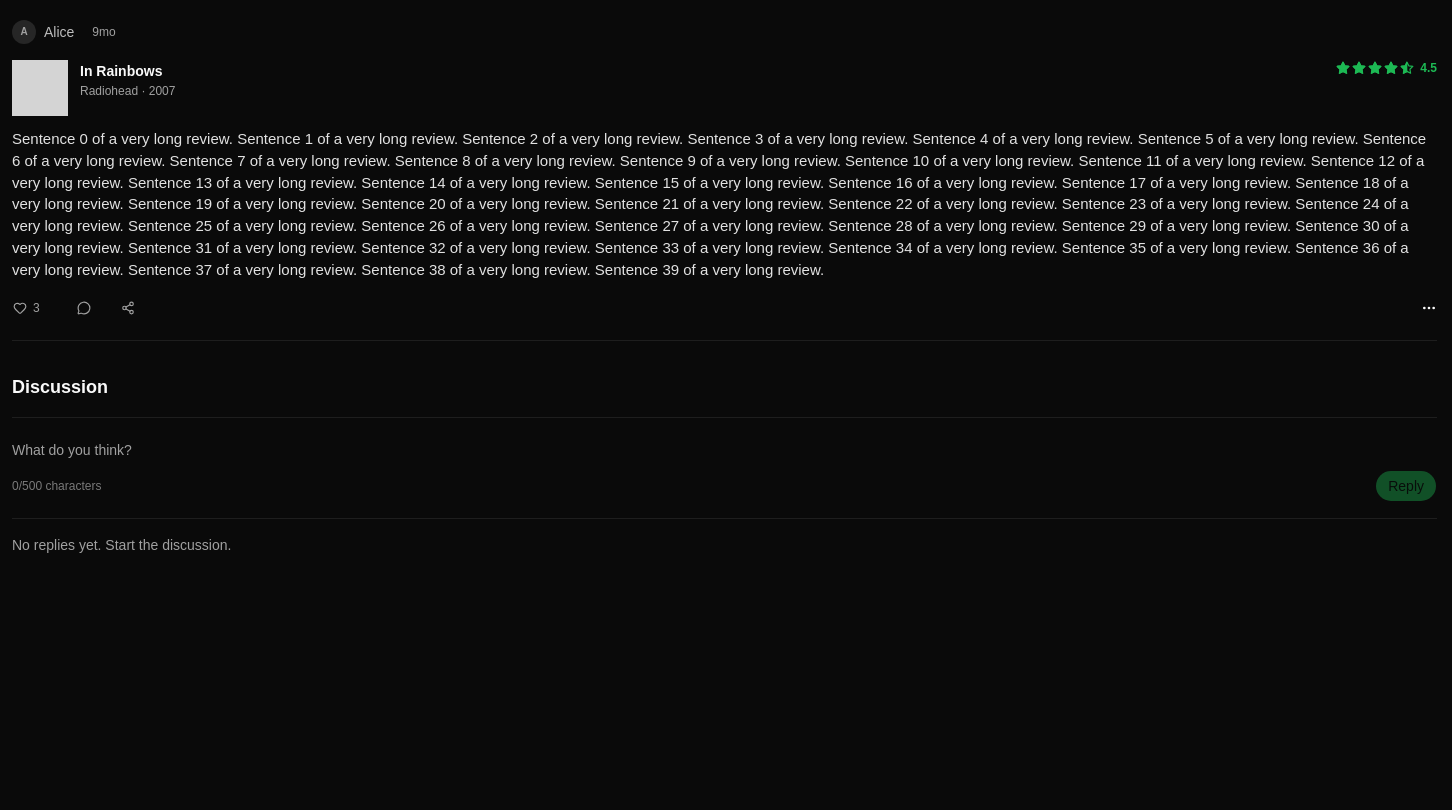
Test case: ReviewConversationContent › retains and marks the draft invalid when posting fails
This screenshot has width=1452, height=810.
Type "Keep this draft" into the text box named "Add a reply" at (724, 450), box [12, 434, 1437, 466]
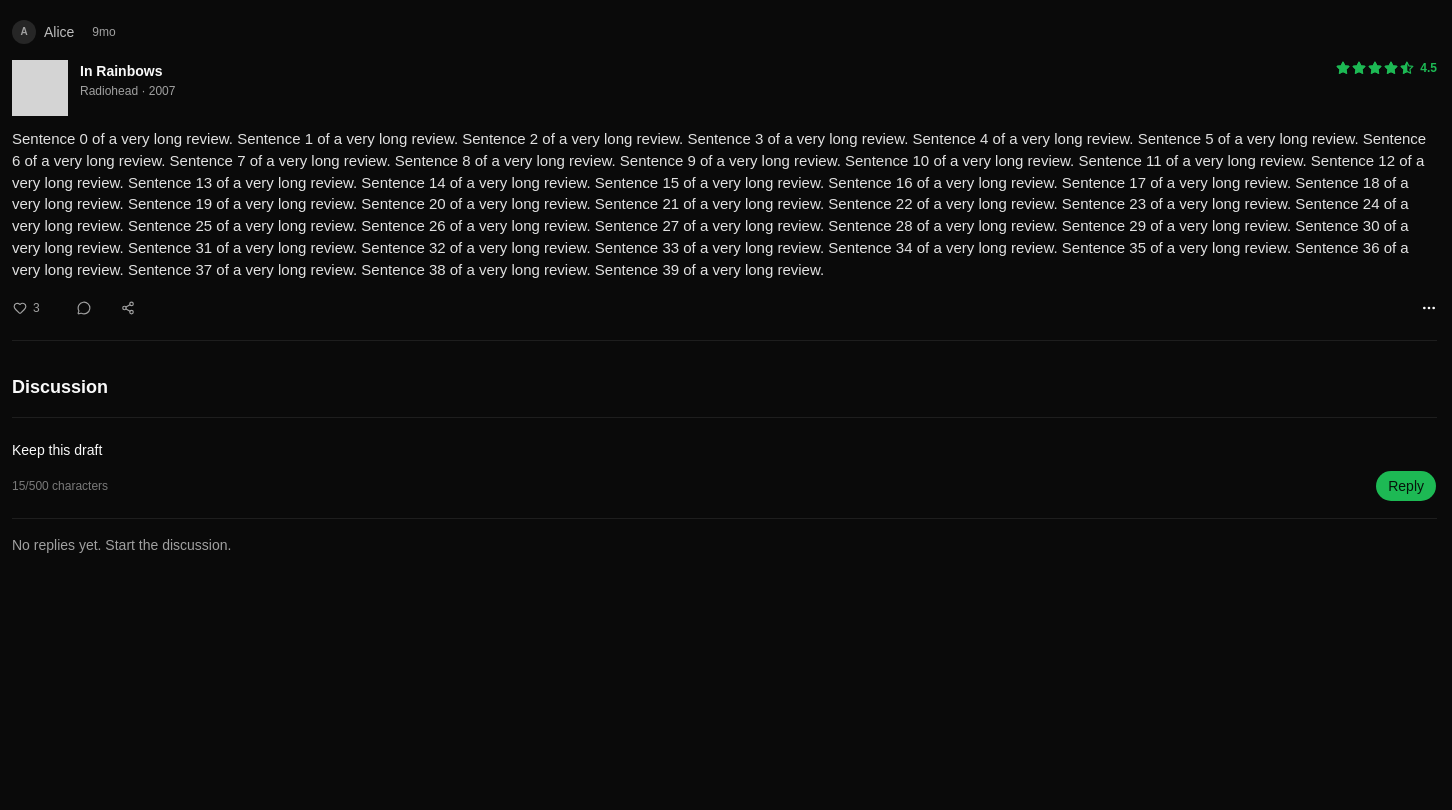
Click the button "Reply" at (1406, 486), box [1375, 470, 1437, 502]
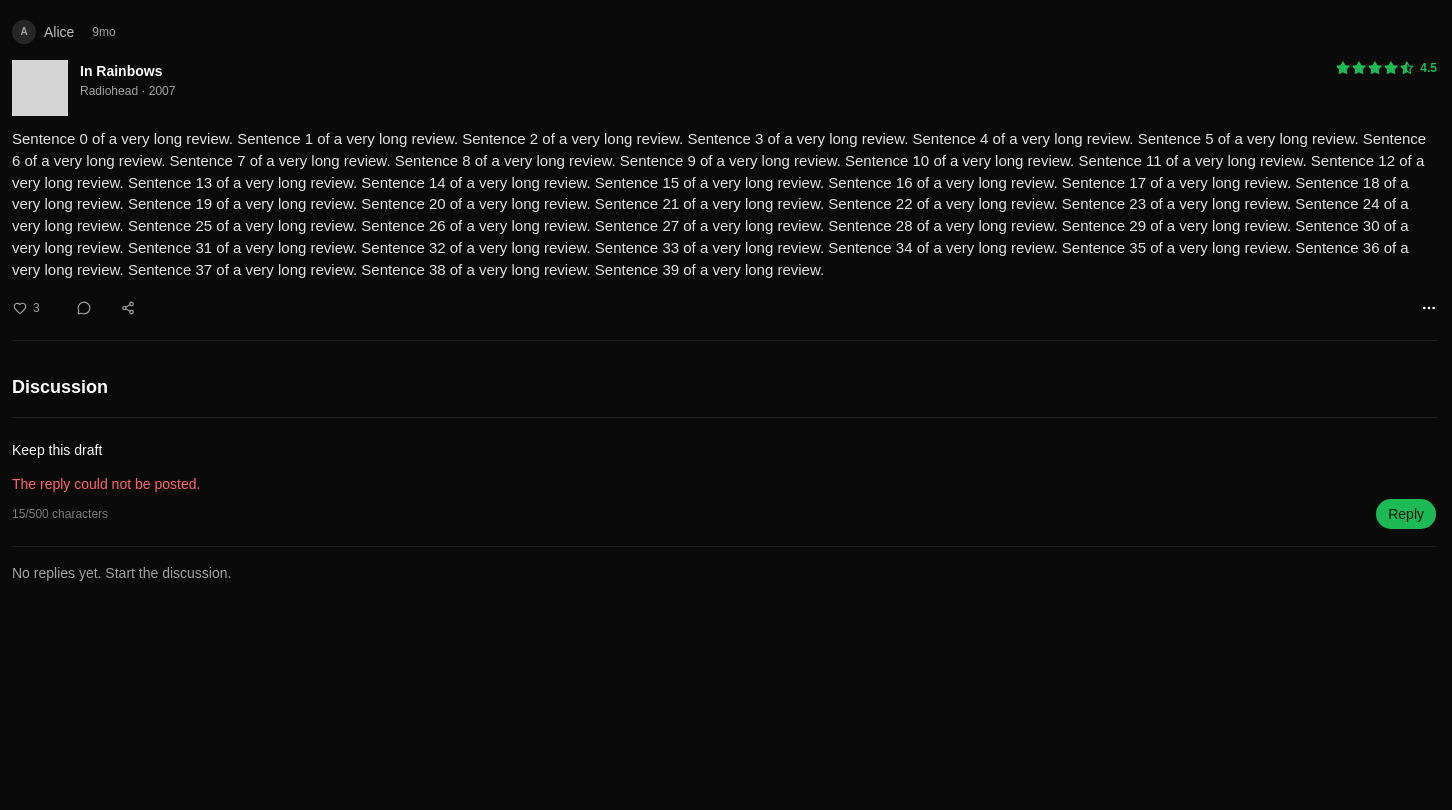
expect the message reads "The reply could not be posted.": met, box [12, 476, 200, 492]
